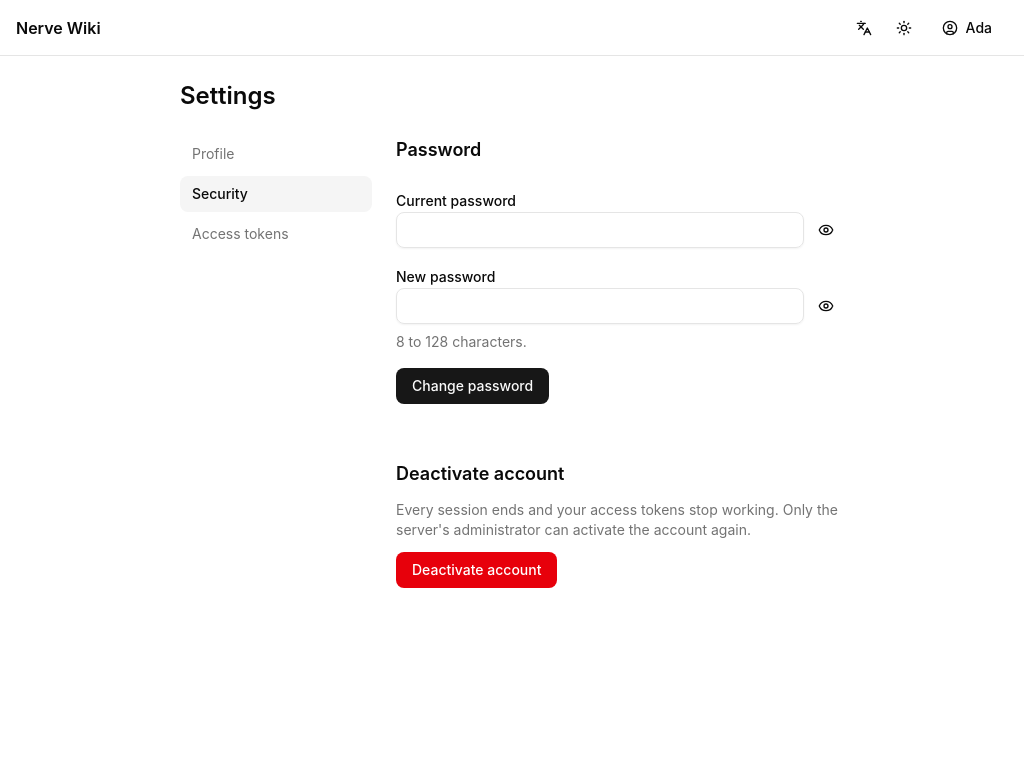
a changed password empties the fields and says what became of the sessions
In the password field labelled "Current password": x=600, y=230 [396,212,804,248], type "correct horse battery"
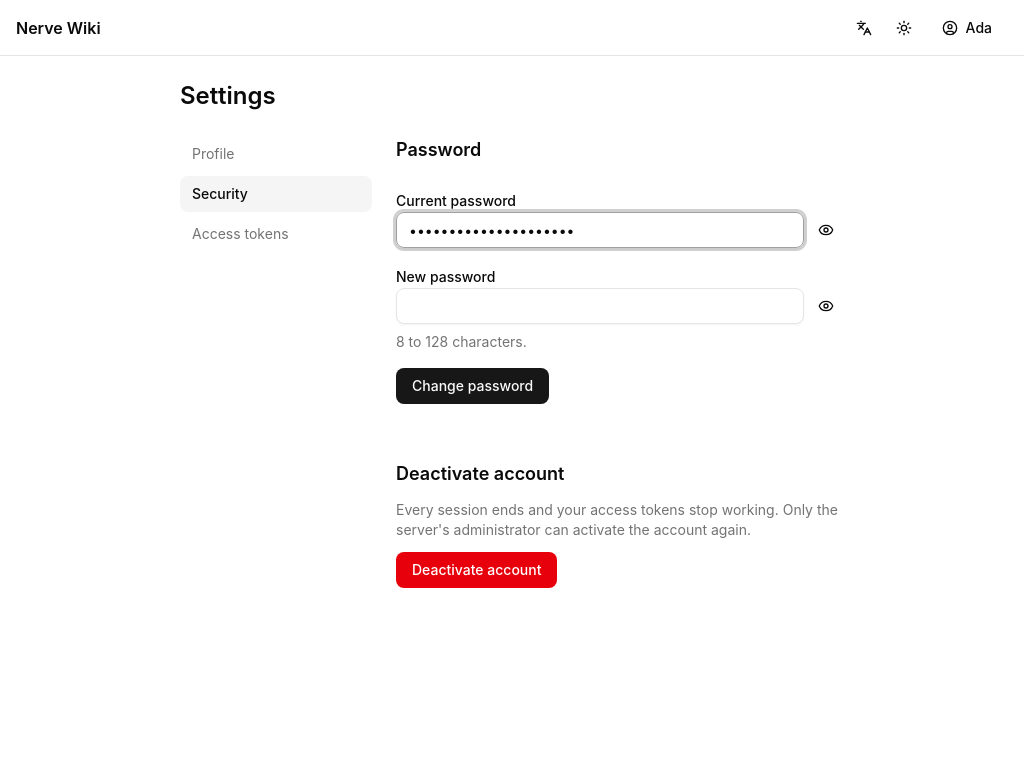
In the password field labelled "New password": x=600, y=306 [396,288,804,324], type "new horse battery"
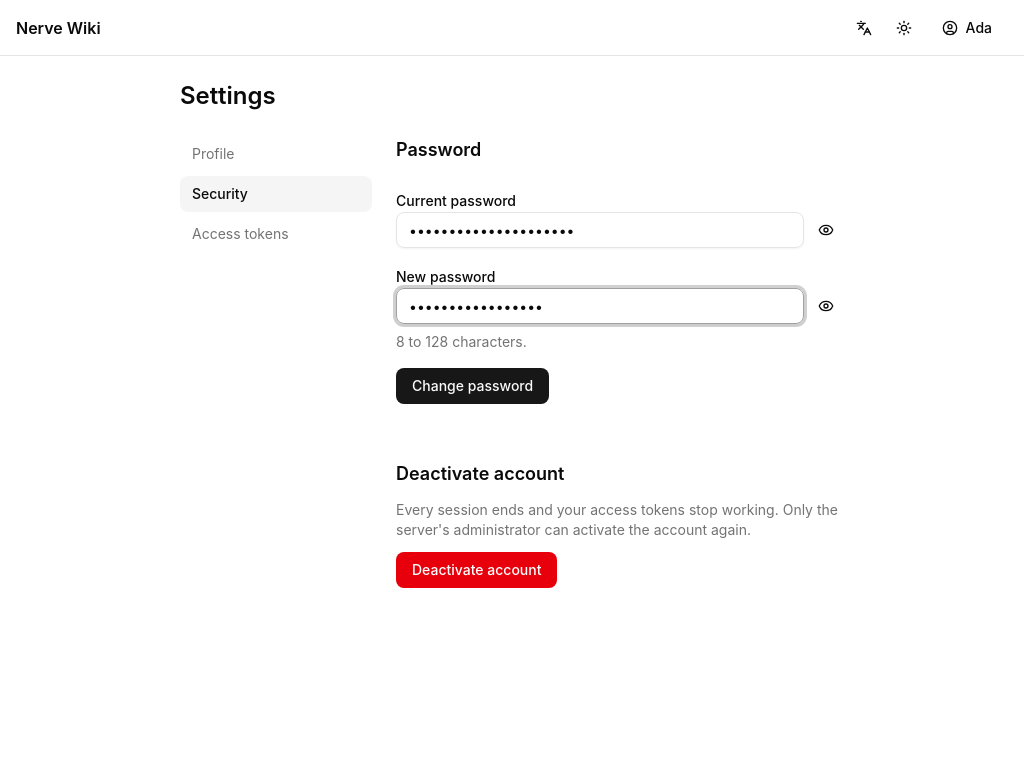
Click the button "Change password": x=473, y=386 [396,368,549,404]
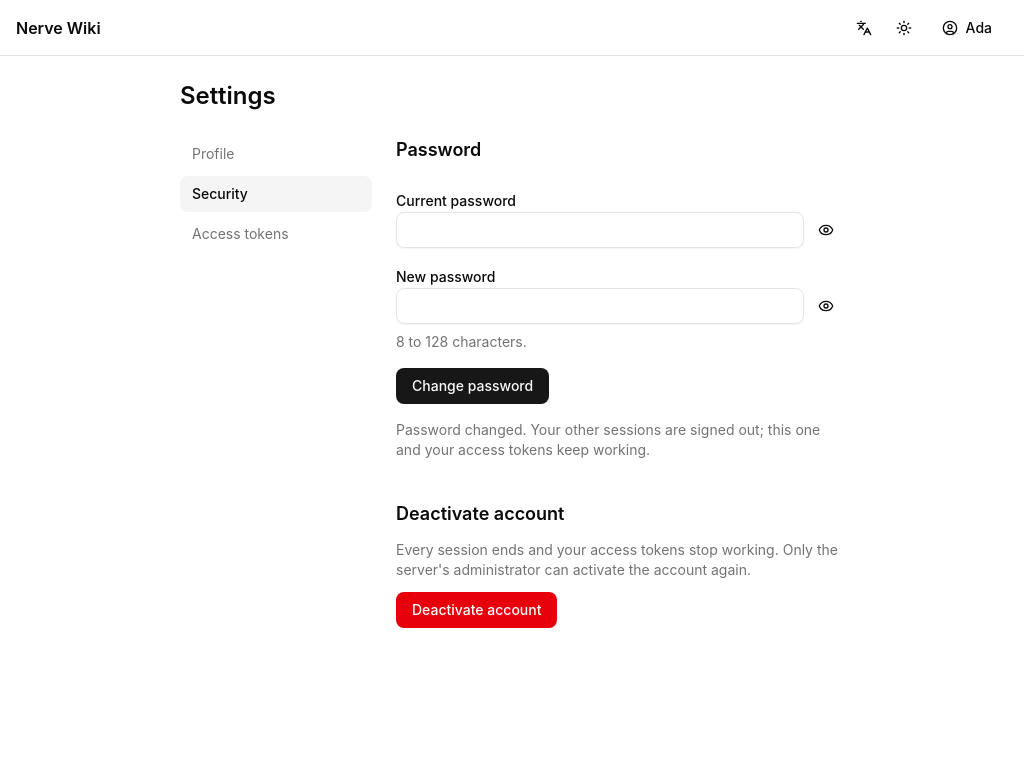
Result: the text "Password changed." is shown at [396,421,820,458]
